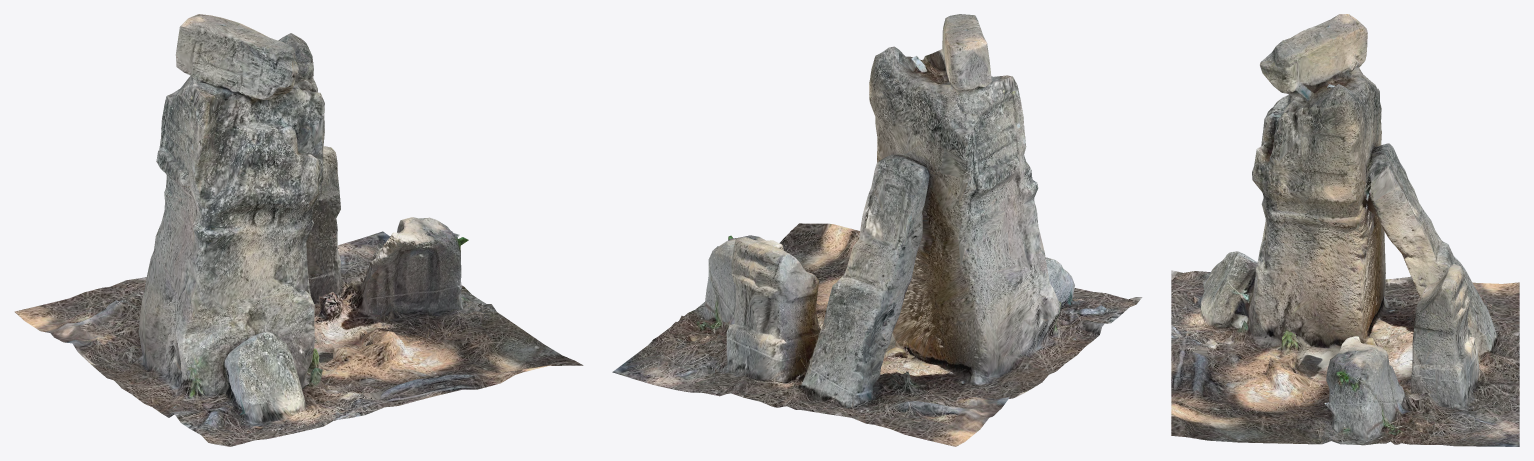
Rendered from punic-stela-tophet-of-salammbo-carthag.glb.
3 renders of one model, left to right at view 1: azimuth 30°, elevation 25°; view 2: azimuth 150°, elevation 25°; view 3: azimuth 270°, elevation 25°, orthographic. The views are drawn at different scales.
Visible parts, largest first — view 1: punic_stelae_target_Punic_stelae_MAT_0; view 2: punic_stelae_target_Punic_stelae_MAT_0; view 3: punic_stelae_target_Punic_stelae_MAT_0.
Boxes of the visible parts, x1,y1,x2,y2 form: punic_stelae_target_Punic_stelae_MAT_0: [14, 14, 583, 446]; punic_stelae_target_Punic_stelae_MAT_0: [612, 14, 1142, 446]; punic_stelae_target_Punic_stelae_MAT_0: [1171, 14, 1519, 446].
Size of the model in its own units: 1.54 by 1.43 by 1.45.
1 material, 1 textured.
